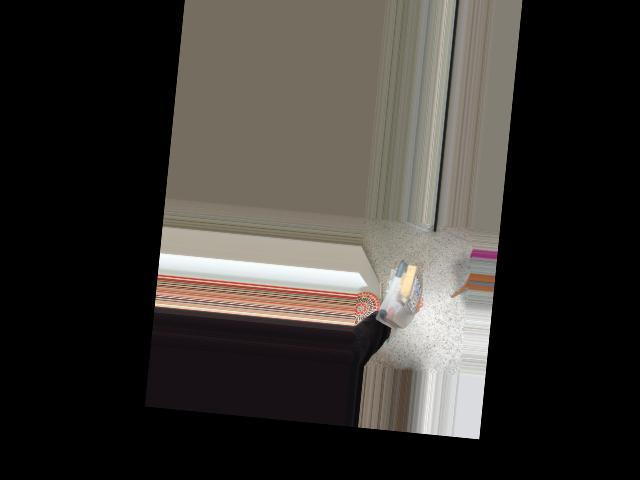cheese: (369, 255, 425, 330)
